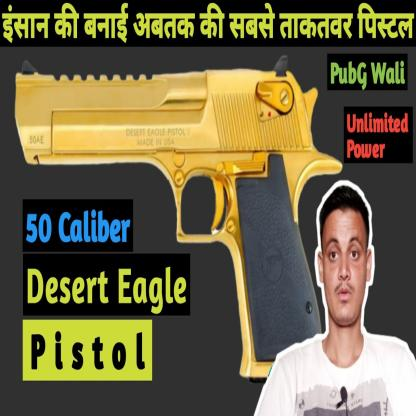handgun: (12, 61, 342, 364)
